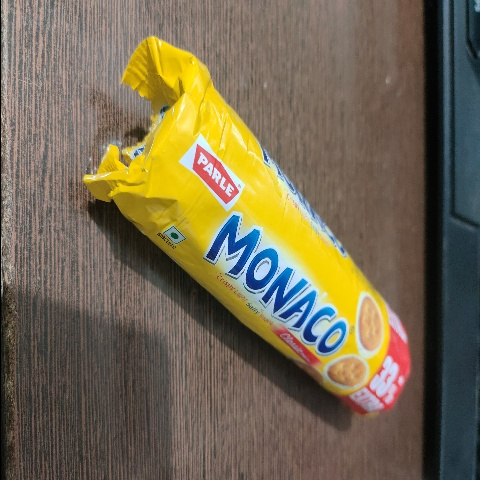monaco: (67, 26, 427, 446)
